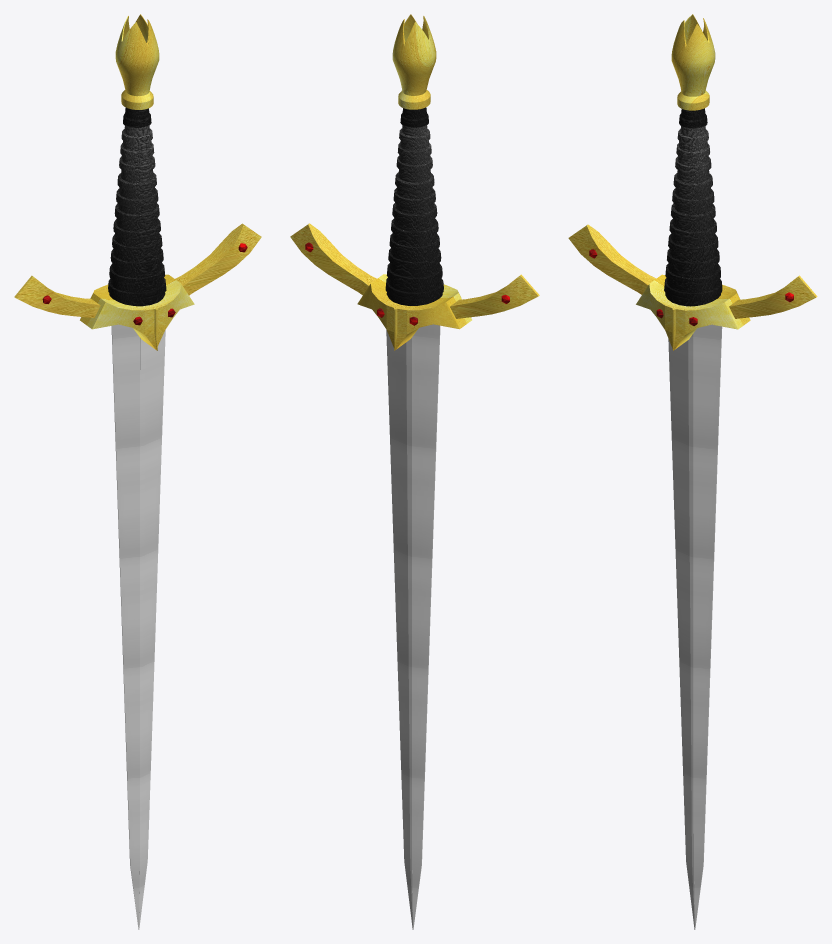
File: Daga_UNITY.fbx
3 renders of one model, left to right at view 1: azimuth 30°, elevation 25°; view 2: azimuth 150°, elevation 25°; view 3: azimuth 330°, elevation 25°, orthographic.
Parts seen in each view (by area): view 1: filo, base, centro, pico, agare1, agare2; view 2: filo, base, centro, pico, agare1, agare2; view 3: filo, base, centro, pico, agare2, agare1.
Part boxes in pixels (<box>): filo: <box>111,324,165,929</box>; base: <box>108,107,166,306</box>; centro: <box>80,274,194,350</box>; pico: <box>115,14,159,109</box>; agare1: <box>175,223,261,295</box>; agare2: <box>14,275,100,317</box>; filo: <box>386,324,440,929</box>; base: <box>385,107,443,305</box>; centro: <box>357,274,471,350</box>; pico: <box>392,14,436,109</box>; agare1: <box>290,223,376,295</box>; agare2: <box>450,274,539,318</box>; filo: <box>668,324,722,929</box>; base: <box>664,108,722,306</box>; centro: <box>636,274,750,350</box>; pico: <box>671,14,715,110</box>; agare2: <box>568,224,656,294</box>; agare1: <box>729,275,817,318</box>.
Bounding box in the file's own units: 5.91 × 20.83 × 1.69.
